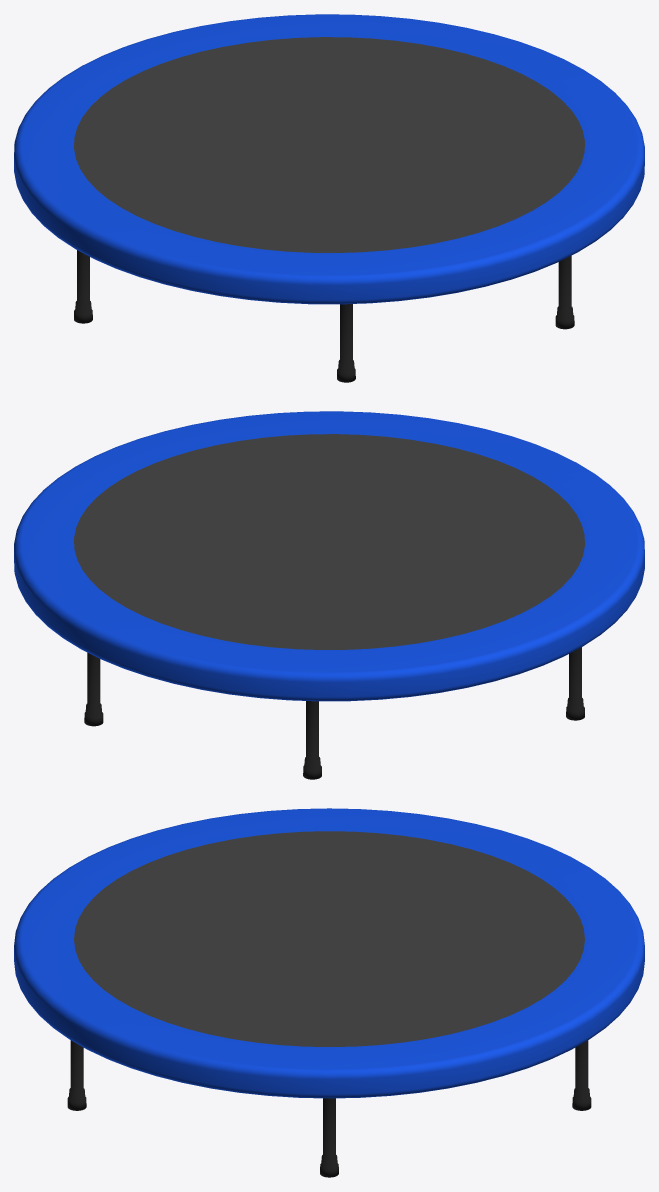
The model's file is Building_Trampoline.fbx.
3 renders of one model, top to bottom at view 1: azimuth 30°, elevation 25°; view 2: azimuth 150°, elevation 25°; view 3: azimuth 270°, elevation 25°, orthographic.
Visible parts, largest first — view 1: Trampoline; view 2: Trampoline; view 3: Trampoline.
Boxes of the visible parts, <box> form: Trampoline: <box>14,14,644,382</box>; Trampoline: <box>14,411,644,779</box>; Trampoline: <box>14,808,644,1177</box>.
Bounding box in the file's own units: 200 × 200 × 40.
